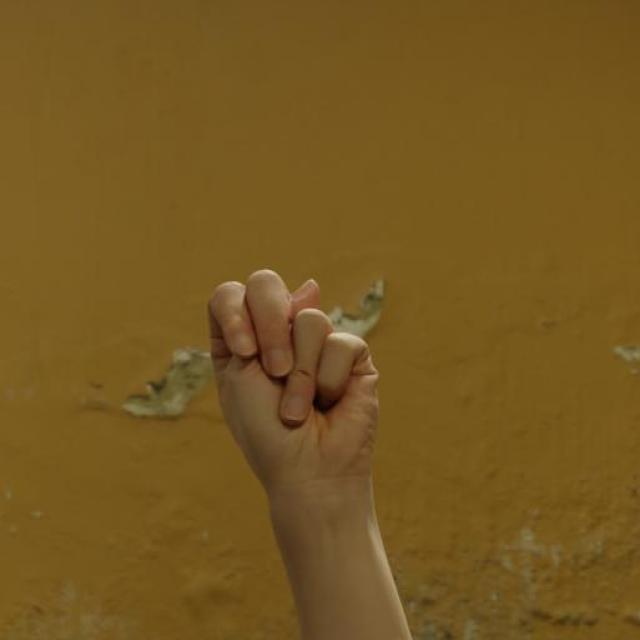N: (200, 258, 386, 516)
